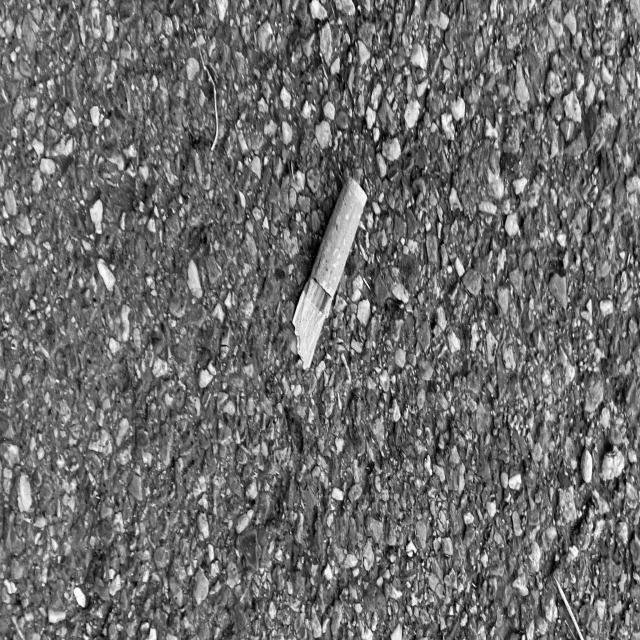other waste: (291, 174, 368, 372)
